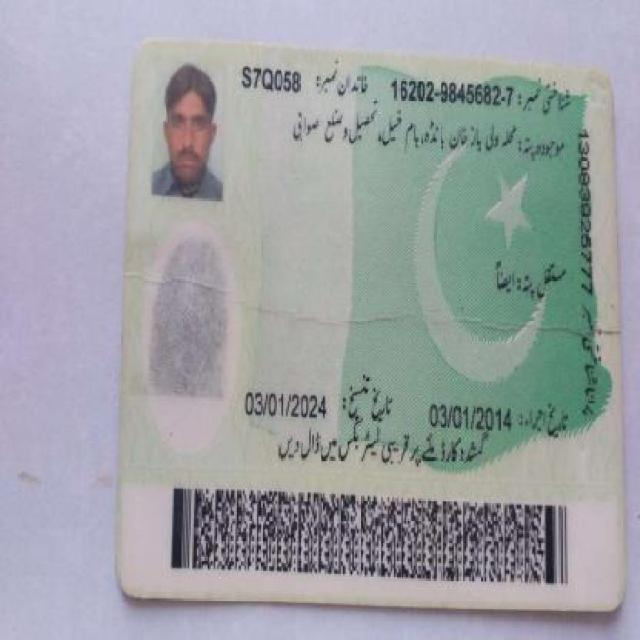Back: (118, 28, 631, 612)
